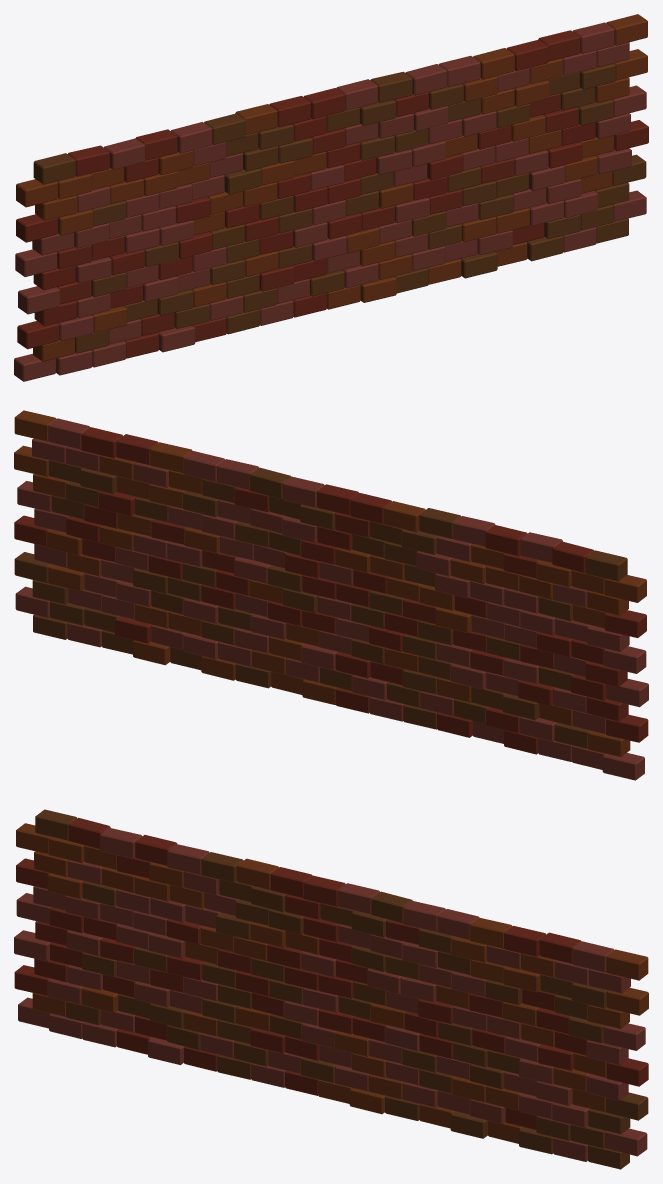
Rendered from brick_wall.glb.
The picture shows the model from 3 angles, top to bottom: view 1: azimuth 30°, elevation 25°; view 2: azimuth 150°, elevation 25°; view 3: azimuth 330°, elevation 25°; orthographic projection.
Visible parts, largest first — view 1: Cube; view 2: Cube; view 3: Cube.
Boxes of the visible parts, left/top/right/bottom form: Cube: left=14, top=14, right=648, bottom=381; Cube: left=14, top=410, right=648, bottom=780; Cube: left=14, top=809, right=648, bottom=1169.
Bounding box in the file's own units: 5.87 × 1.9 × 0.2354.
